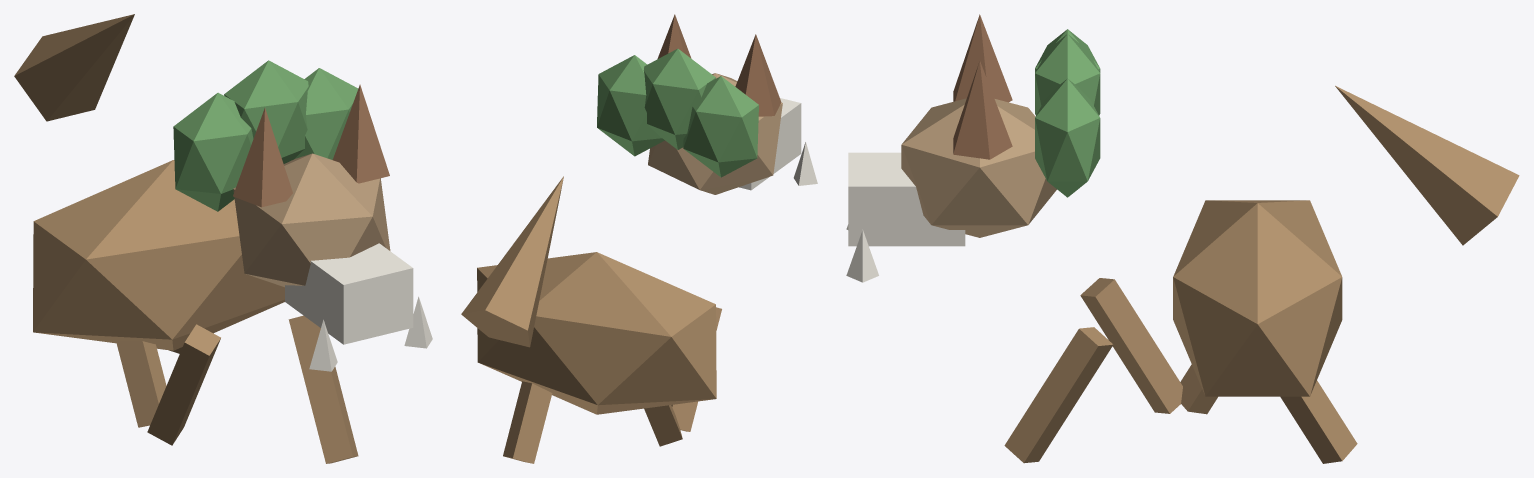
Rendered from npcpose_wolf_walk_03.glb.
3 views of the same model, side by side, from view 1: azimuth 30°, elevation 25°; view 2: azimuth 150°, elevation 25°; view 3: azimuth 270°, elevation 25° (orthographic). The views are drawn at different scales.
Visible parts, largest first — view 1: npcpose; view 2: npcpose; view 3: npcpose.
Part boxes in pixels (x1,y1,x2,y2): npcpose: (14, 14, 432, 463); npcpose: (461, 14, 817, 463); npcpose: (846, 14, 1519, 463).
Size of the model in its own units: 0.8873 by 1.22 by 1.84.
